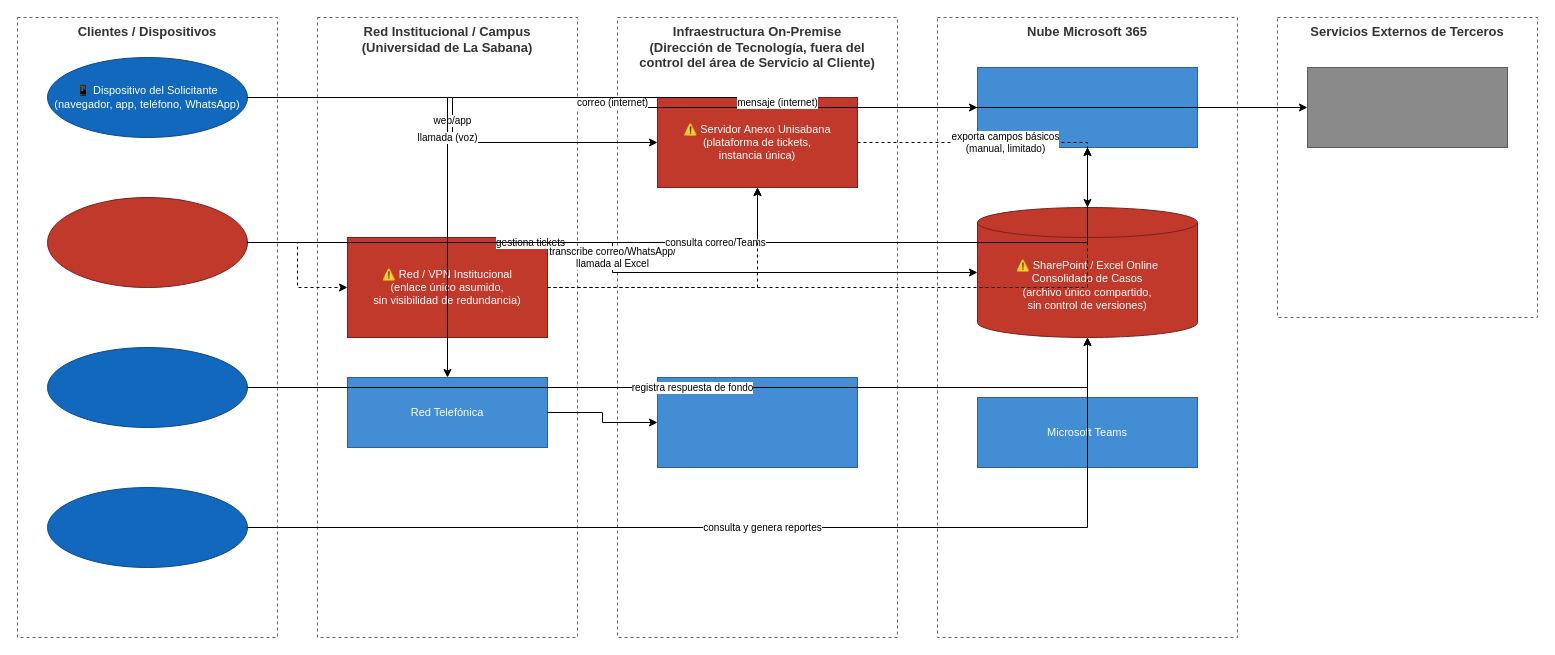
This 1555x655 diagram has some shape labels left out. The shapes that lost their labels are listed below. From the top down, each one's centre as x and y in pixels, then its label:
At point (1087, 107): "Exchange Online (correo institucional)".
At point (1407, 107): "WhatsApp Business (Meta Cloud API)".
At point (147, 242): "⚠️ Gestor de casos PC del Contact Center (único que registra 3 canales manuales)".
At point (147, 387): "💻 Unidad Responsable / Facultad".
At point (757, 422): "Central Telefónica / PBX (gestionada por la universidad, redundancia no visible)".
At point (147, 527): "💻 Supervisor del Centro de Contacto PC del Supervisor".
